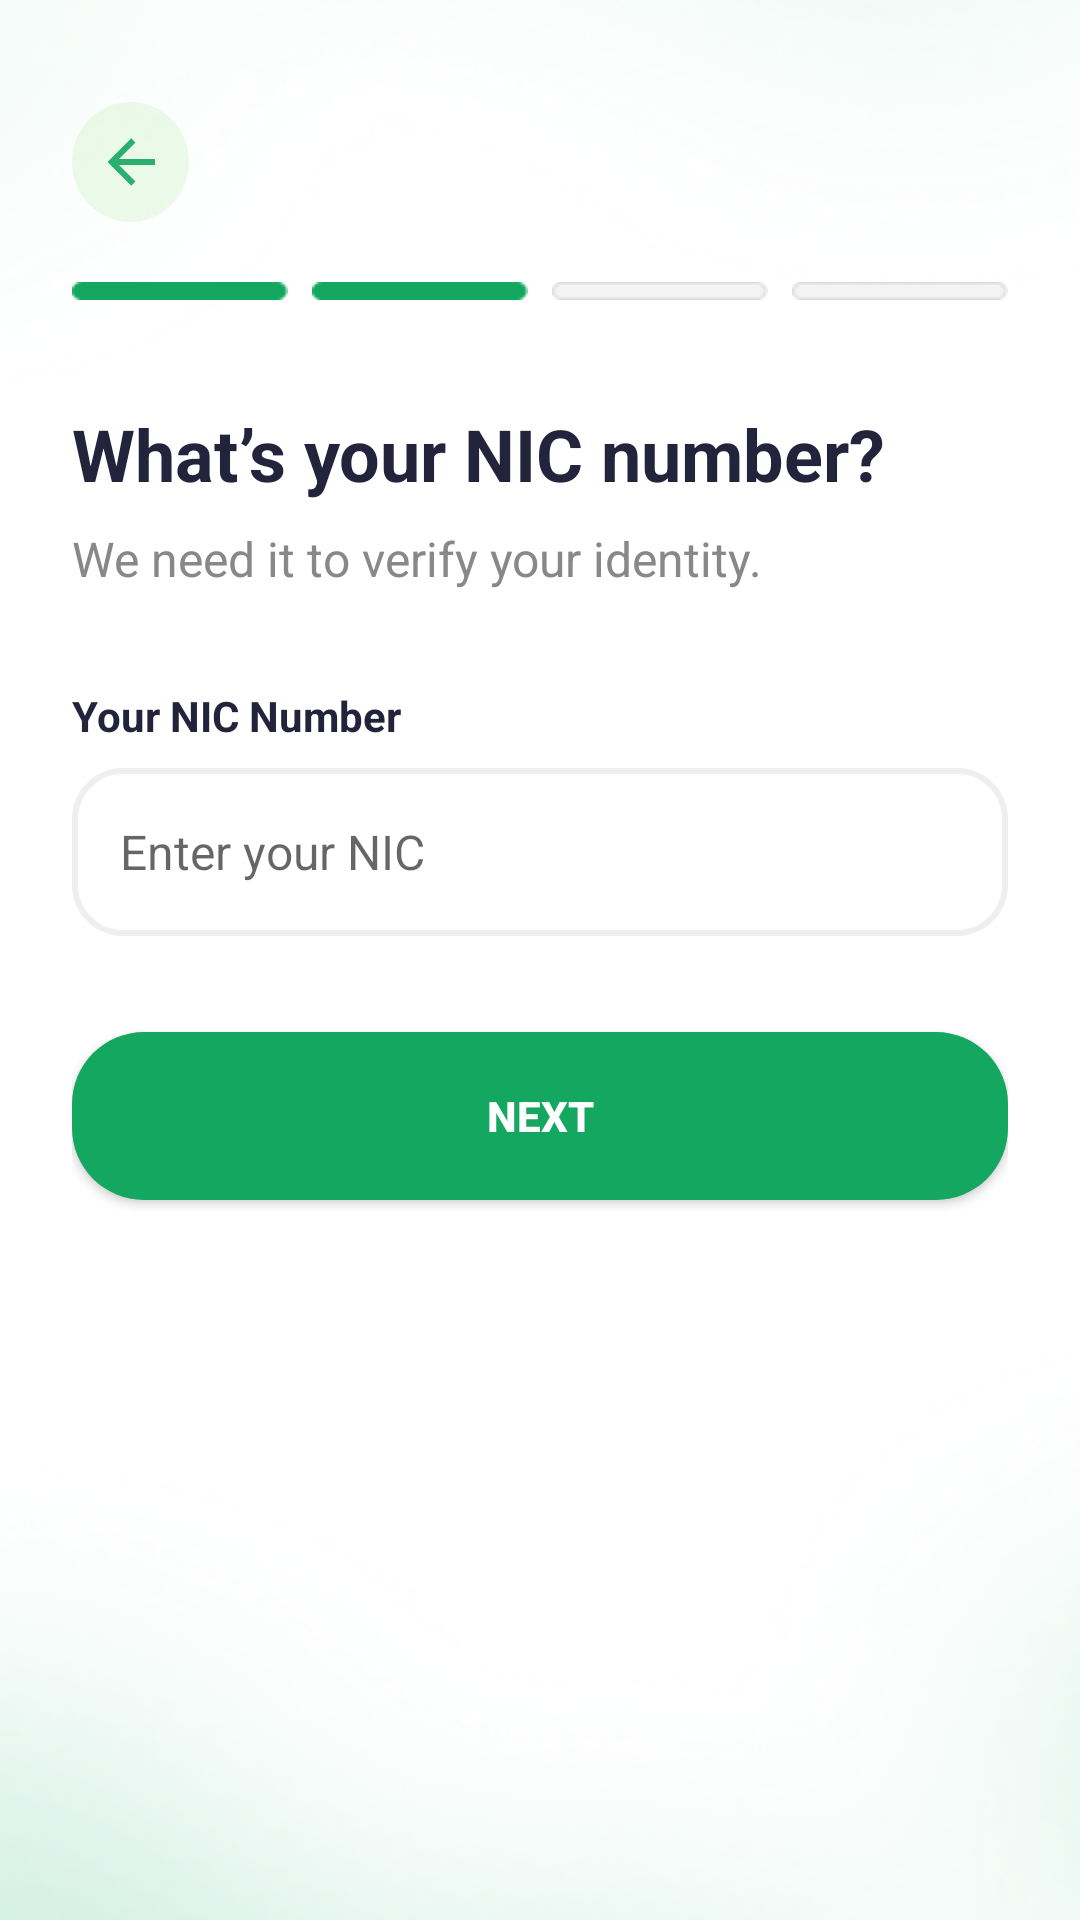

Icons on this 1080px x 1920px Android screen, each with its box as region(x1, y1, x2, y2):
back arrow: region(72, 102, 189, 222)
